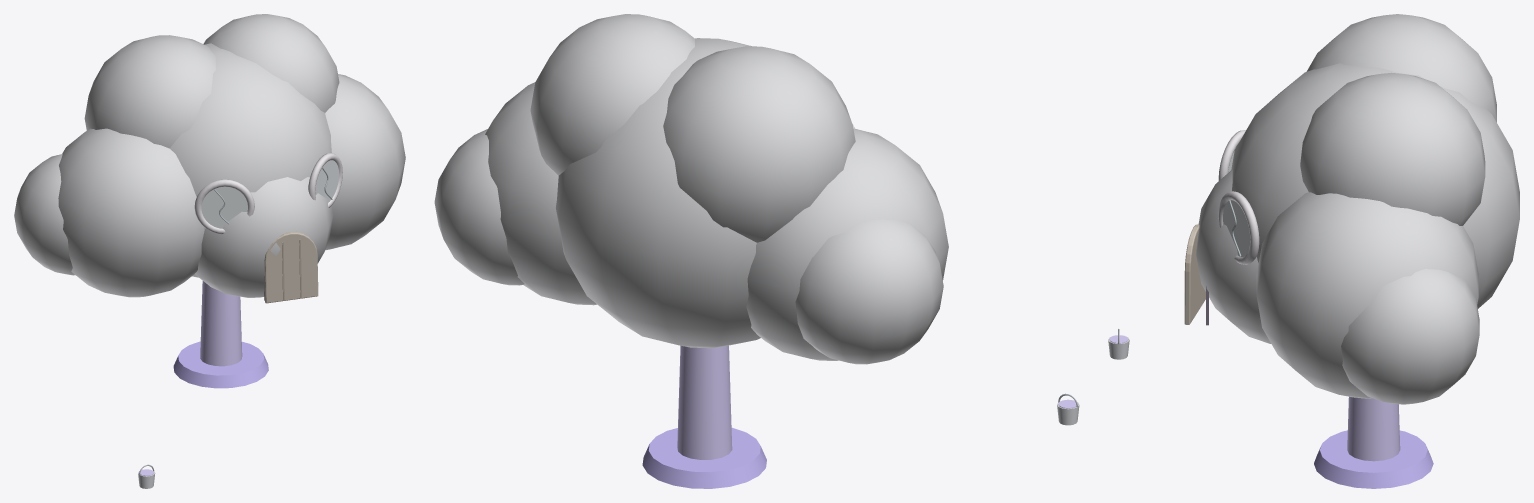
File: building_sky_L04.glb
3 renders of one model, left to right at view 1: azimuth 30°, elevation 25°; view 2: azimuth 150°, elevation 25°; view 3: azimuth 270°, elevation 25°, orthographic. The views are drawn at different scales.
Parts seen in each view (by area): view 1: Body; view 2: Body; view 3: Body, sky_L4.
Part boxes in pixels (<box>): Body: <box>14,14,405,388</box>; Body: <box>434,14,948,488</box>; Body: <box>1184,14,1519,488</box>; sky_L4: <box>1108,329,1129,359</box>.
Size of the model in its own units: 18 by 15.2 by 13.73.
